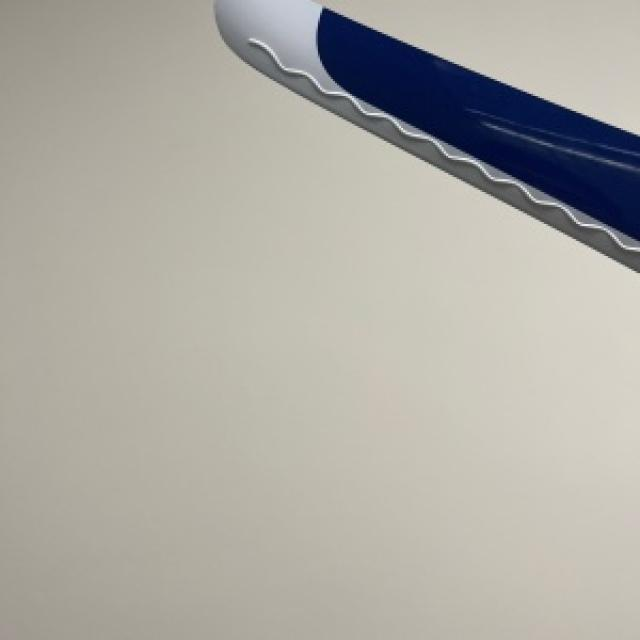healthy: (215, 0, 638, 267)
